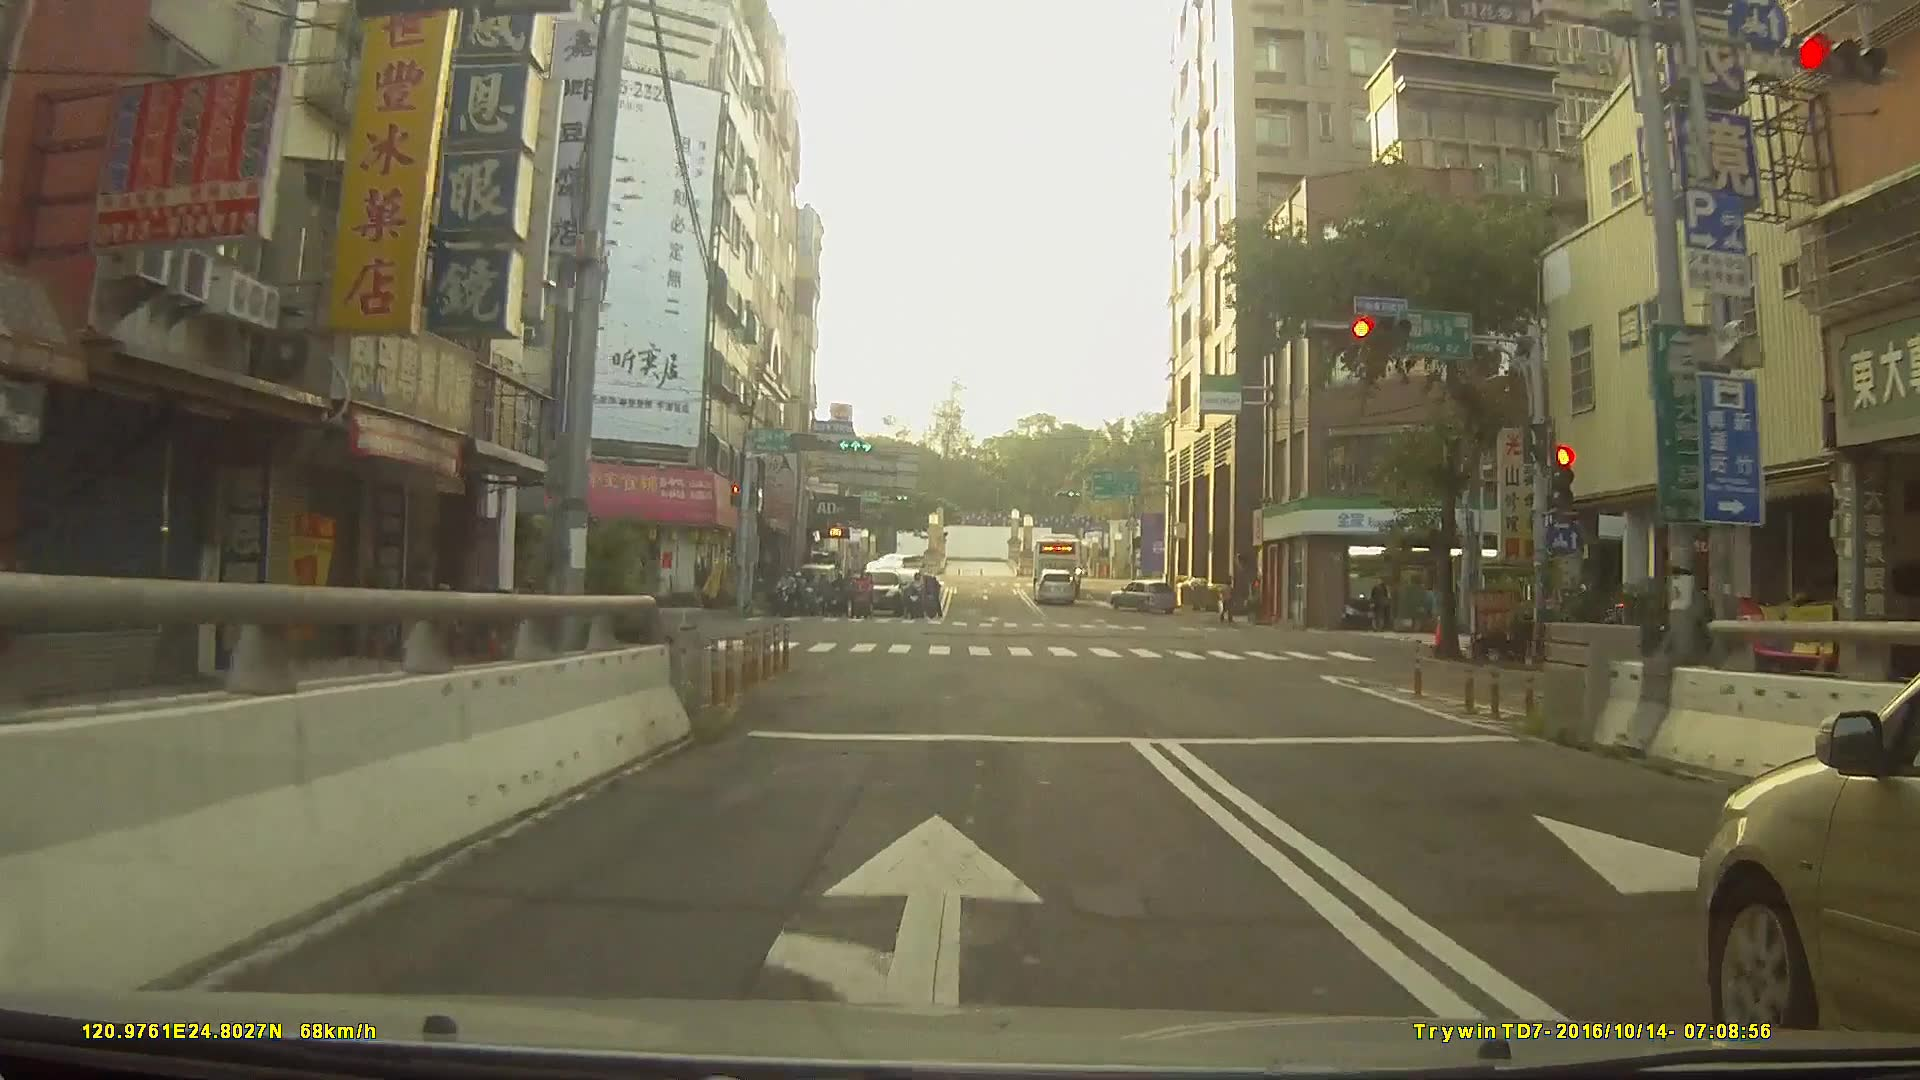pedestrian: (1369, 581, 1395, 636), (1217, 581, 1237, 625)
rider: (774, 569, 800, 619), (826, 576, 850, 622), (852, 570, 875, 617), (906, 575, 926, 625), (802, 574, 823, 619), (922, 577, 942, 624)
vehicle: (1697, 670, 1920, 1043), (1029, 537, 1087, 587), (853, 572, 906, 624), (1108, 579, 1179, 616), (863, 551, 927, 580), (1033, 571, 1079, 606)
